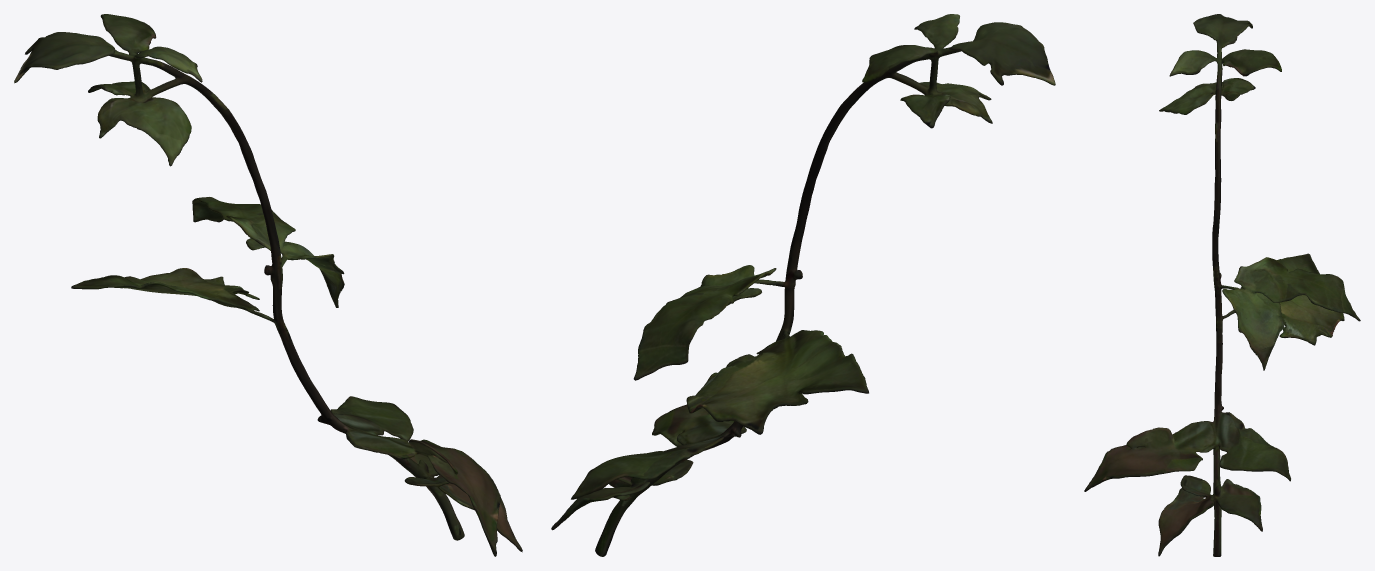
Rendered from shrub0009_dup.gltf.
3 renders of one model, left to right at view 1: azimuth 30°, elevation 25°; view 2: azimuth 150°, elevation 25°; view 3: azimuth 270°, elevation 25°, orthographic. The views are drawn at different scales.
Visible parts, largest first — view 1: Mesh_0.034; view 2: Mesh_0.034; view 3: Mesh_0.034.
Boxes of the visible parts, x1=… form: Mesh_0.034: x1=14, y1=14, x2=522, y2=556; Mesh_0.034: x1=551, y1=14, x2=1055, y2=556; Mesh_0.034: x1=1084, y1=14, x2=1360, y2=556.
Size of the model in its own units: 1.64 by 2 by 1.23.
Materials: 1 (1 with a texture image).
